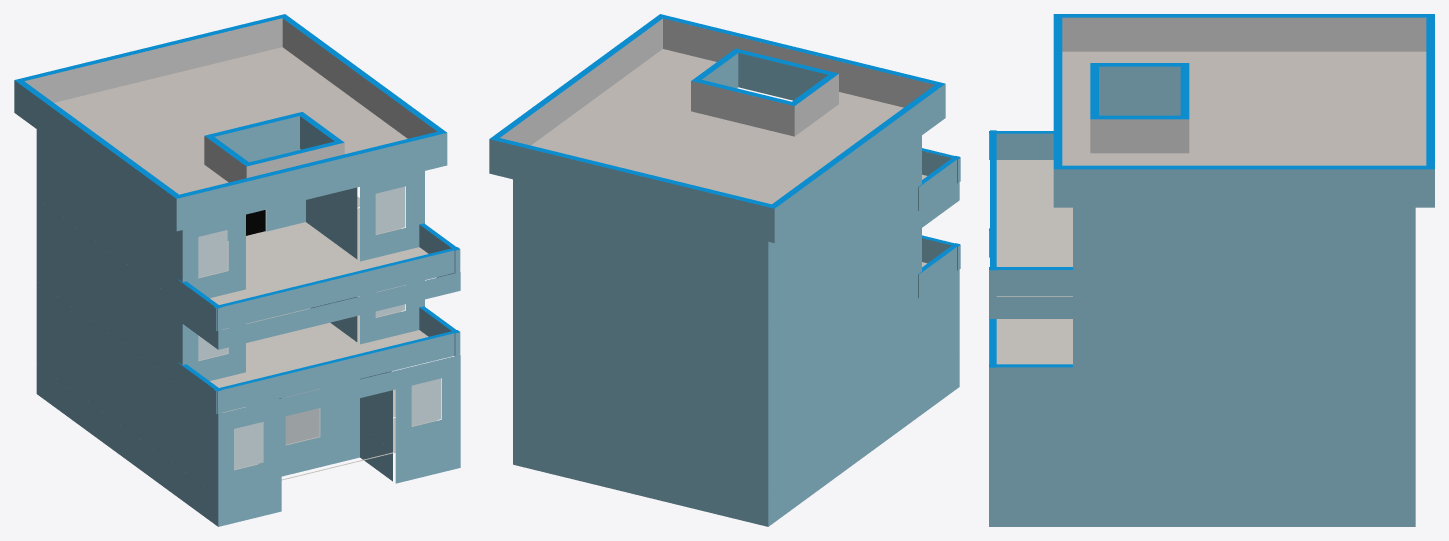
File: house_type_d.glb
The picture shows the model from 3 angles, left to right: view 1: azimuth 30°, elevation 25°; view 2: azimuth 150°, elevation 25°; view 3: azimuth 270°, elevation 25°; orthographic projection. The views are drawn at different scales.
Parts seen in each view (by area): view 1: roof0; view 2: roof0; view 3: roof0.
Part boxes in pixels (x1,y1,x2,y2): roof0: [14, 14, 460, 526]; roof0: [489, 14, 960, 526]; roof0: [989, 14, 1434, 526].
Bounding box in the file's own units: 113 × 124 × 137.
